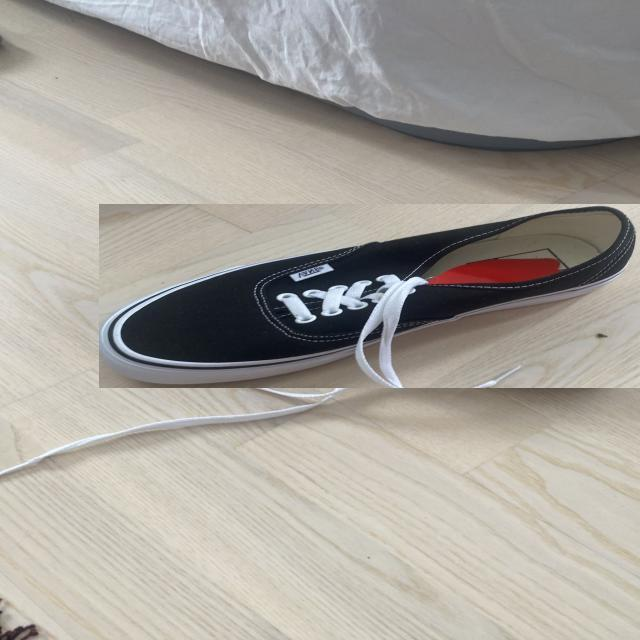shoes: (99, 204, 640, 388)
